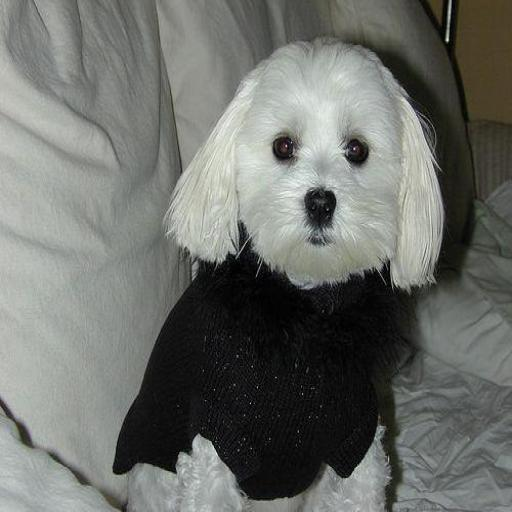dog_face: (165, 40, 449, 293)
